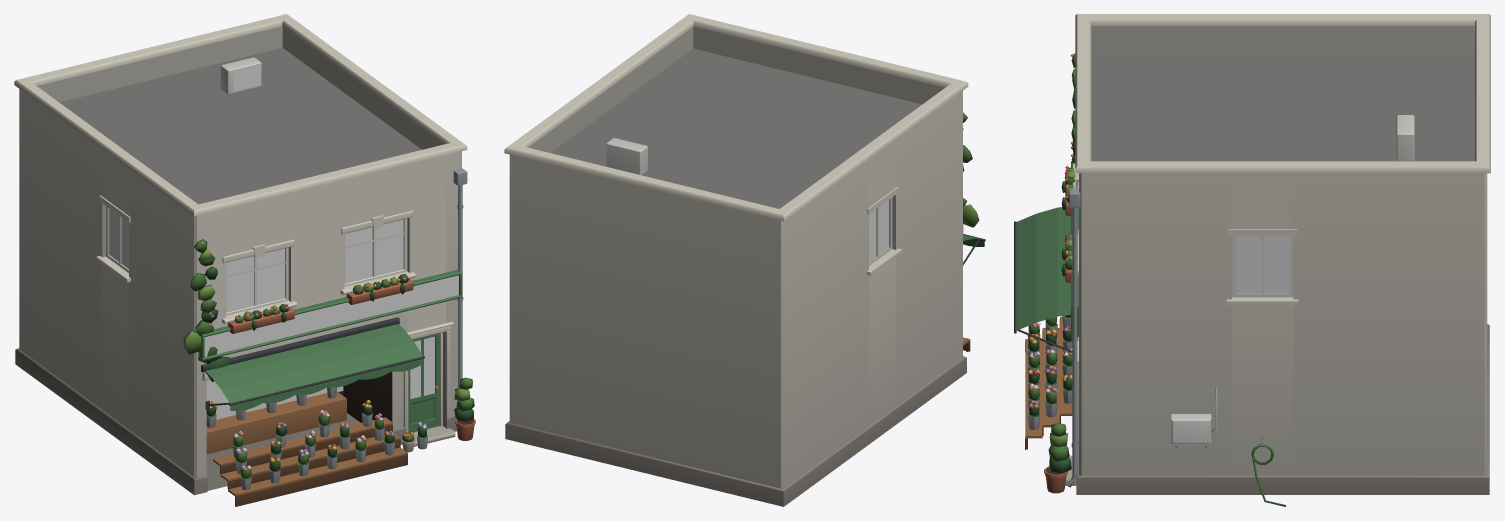
File: ShopFlorist.fbx
3 views of the same model, side by side, from view 1: azimuth 30°, elevation 25°; view 2: azimuth 150°, elevation 25°; view 3: azimuth 270°, elevation 25° (orthographic). The views are drawn at different scales.
Visible parts, largest first — view 1: ShopFlorist; view 2: ShopFlorist; view 3: ShopFlorist.
Part boxes in pixels (left/top/right/bottom): ShopFlorist: left=14, top=14, right=475, bottom=506; ShopFlorist: left=504, top=14, right=985, bottom=506; ShopFlorist: left=1014, top=14, right=1490, bottom=506.
Size of the model in its own units: 7.97 by 7.1 by 9.34.
